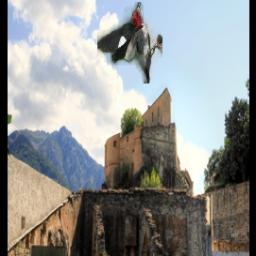Woodpecker: (98, 2, 163, 84)
